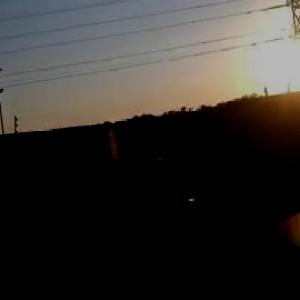follow: (120, 137, 210, 299)
